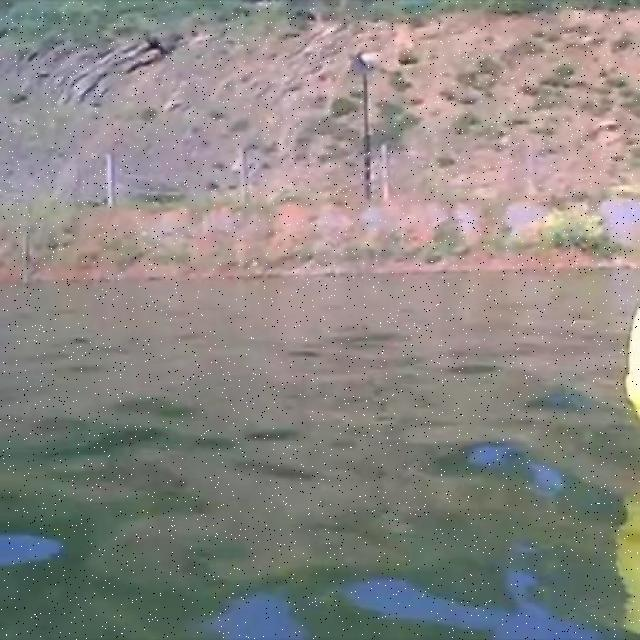buoy: (627, 303, 639, 424)
